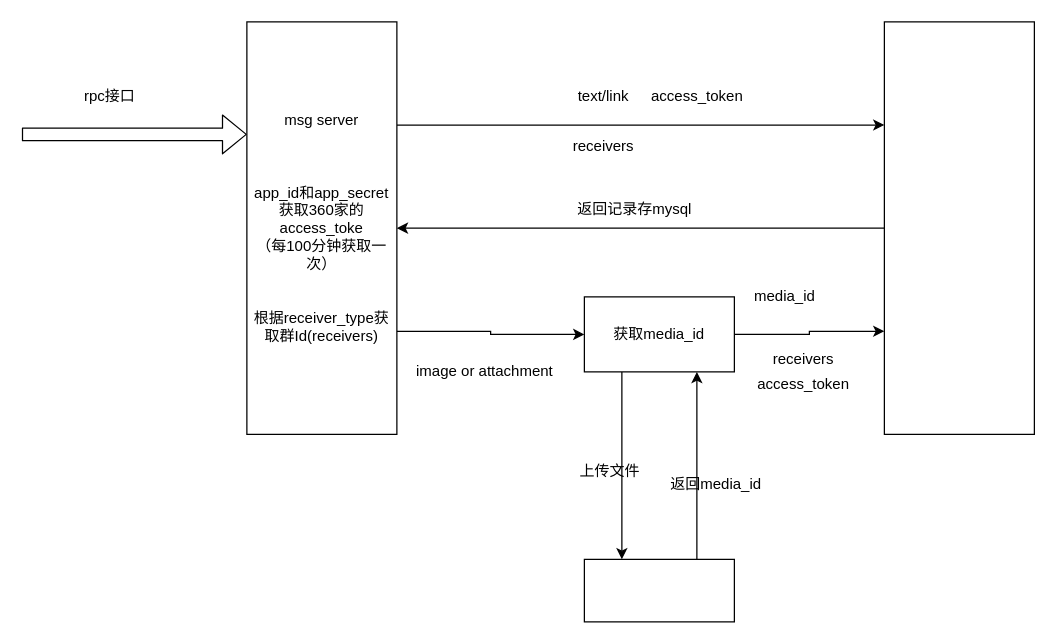
Some shapes in this 1056 by 644 pixel diagram are drawn without their labels. Here are the shapes that lost their labels. From the top down, the centre of each, then its label:
At (x=958, y=227): "360家消息接口".
At (x=658, y=590): "360家文件上传接口".
